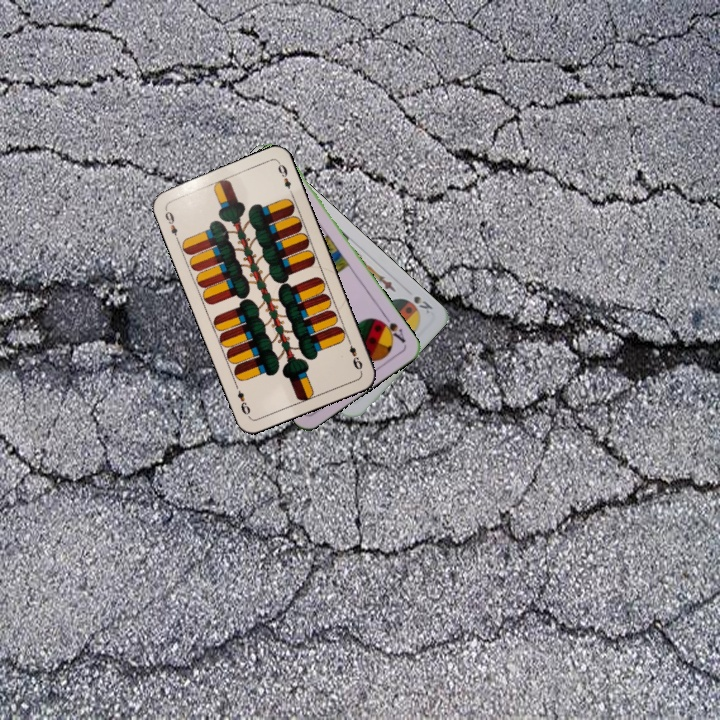E9: (161, 204, 181, 244), (344, 335, 365, 372)
SA: (375, 311, 408, 345)
SK: (409, 292, 435, 316)
